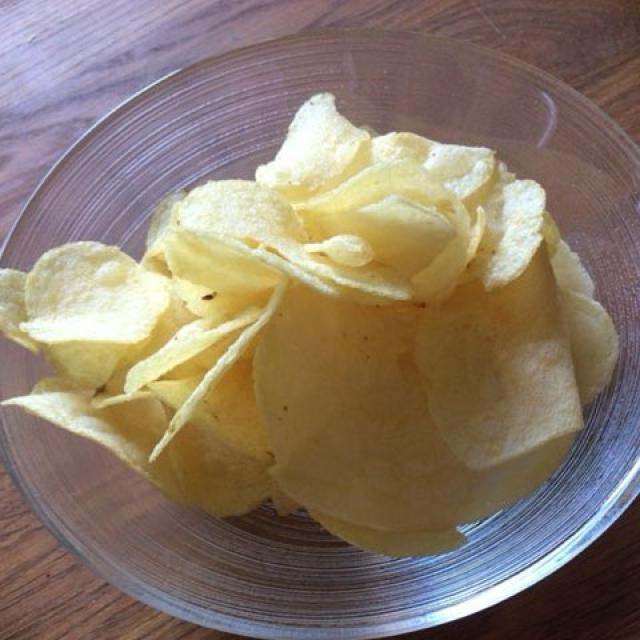crisps: (13, 103, 610, 531)
